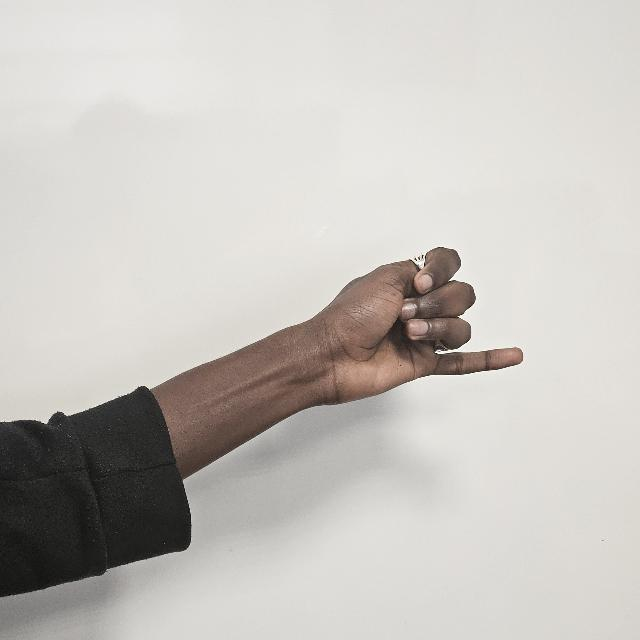Esquerda: (324, 245, 526, 400)
